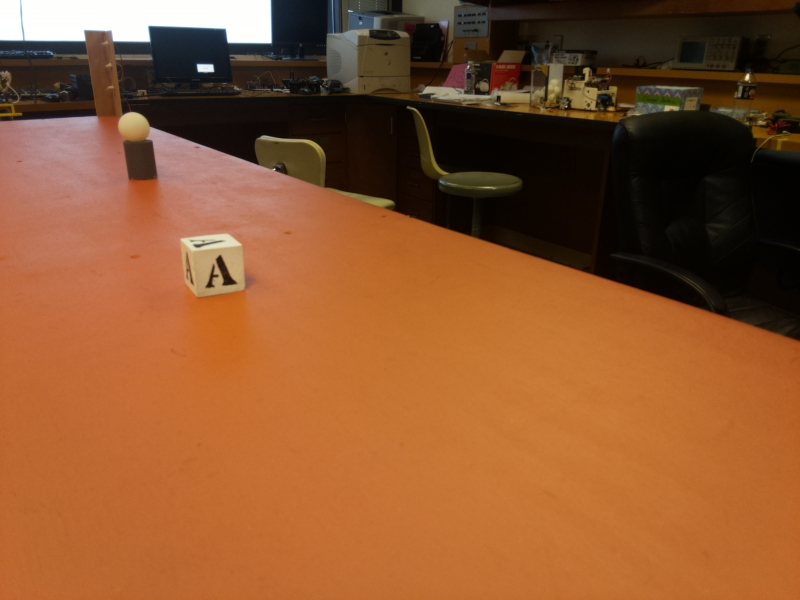blockA: (182, 225, 244, 301)
corner: (88, 31, 116, 123)
obstacle: (121, 111, 152, 180)
